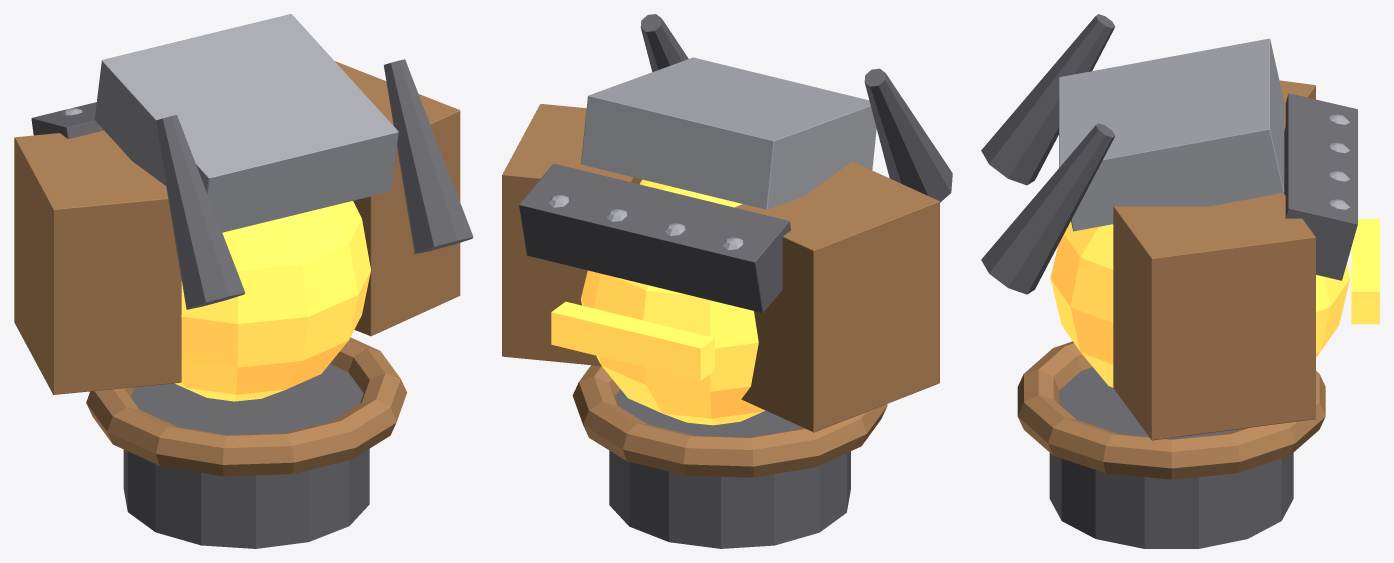
Rendered from head-bruiser3.glb.
3 views of the same model, side by side, from view 1: azimuth 30°, elevation 25°; view 2: azimuth 150°, elevation 25°; view 3: azimuth 270°, elevation 25° (orthographic).
Visible parts, largest first — view 1: helm_top, helm_r, core, neck, neckring, helm_l, horn_r, horn_l, brow; view 2: helm_r, helm_top, brow, neck, core, helm_l, neckring, visor, horn_r, horn_l; view 3: helm_l, helm_top, neck, neckring, brow, core, horn_l, horn_r, visor, helm_r.
Part boxes in pixels (<box>): helm_top: <box>94,14,398,232</box>; helm_r: <box>14,130,181,394</box>; core: <box>175,201,370,401</box>; neck: <box>123,364,369,548</box>; neckring: <box>86,337,407,476</box>; helm_l: <box>335,61,460,336</box>; horn_r: <box>155,115,245,309</box>; horn_l: <box>383,59,473,253</box>; brow: <box>31,102,103,138</box>; helm_r: <box>734,161,939,432</box>; helm_top: <box>581,57,876,209</box>; brow: <box>519,163,790,312</box>; neck: <box>609,389,850,548</box>; core: <box>580,179,764,425</box>; helm_l: <box>502,104,642,365</box>; neckring: <box>572,365,887,477</box>; visor: <box>551,301,714,380</box>; horn_r: <box>864,68,952,202</box>; horn_l: <box>640,14,688,71</box>; helm_l: <box>1113,193,1315,440</box>; helm_top: <box>1059,38,1284,231</box>; neck: <box>1049,367,1293,548</box>; neckring: <box>1017,341,1325,479</box>; brow: <box>1284,93,1357,280</box>; core: <box>1050,221,1350,387</box>; horn_l: <box>981,123,1114,294</box>; horn_r: <box>981,14,1115,185</box>; visor: <box>1351,219,1379,324</box>; helm_r: <box>1279,80,1315,131</box>.
Size of the model in its own units: 0.3212 by 0.3291 by 0.2777.
